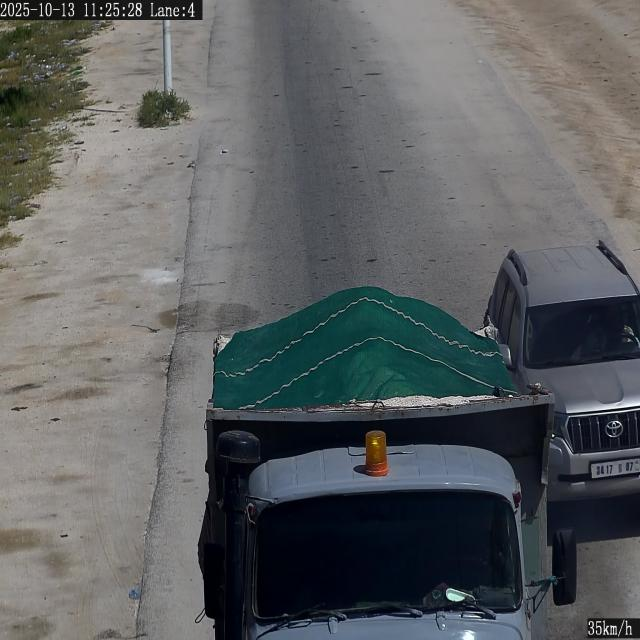BUS: (591, 458, 639, 478)
